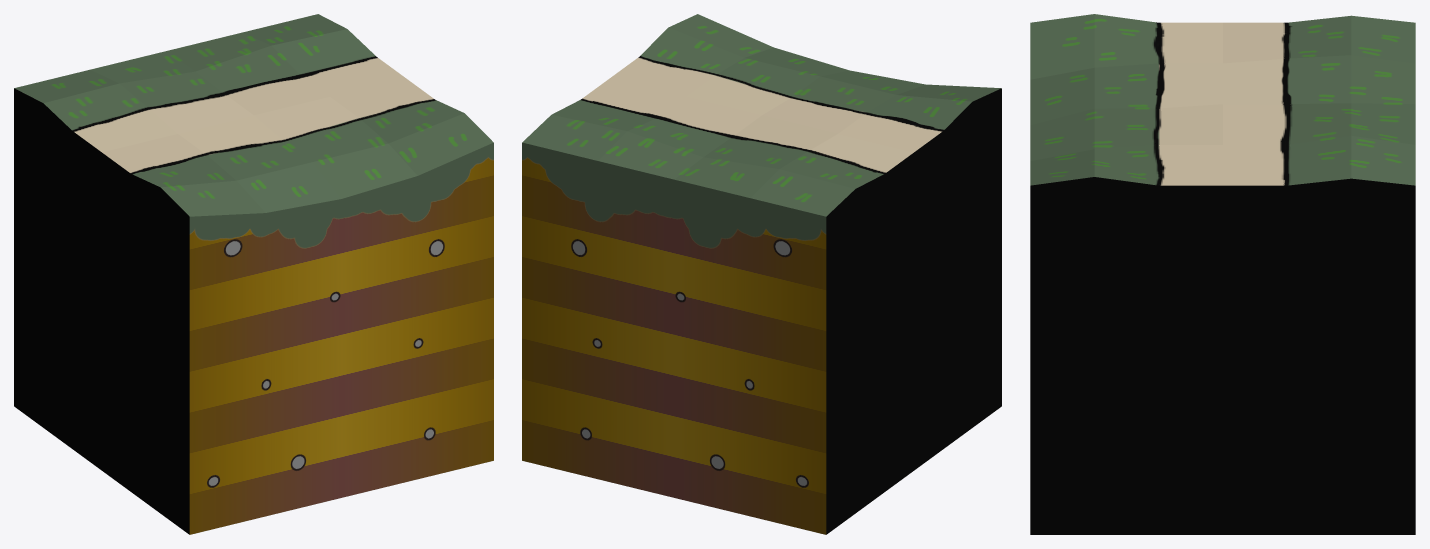
The model's file is glass_road.fbx.
The picture shows the model from 3 angles, left to right: view 1: azimuth 30°, elevation 25°; view 2: azimuth 150°, elevation 25°; view 3: azimuth 270°, elevation 25°; orthographic projection. The views are drawn at different scales.
Parts seen in each view (by area): view 1: glass_road; view 2: glass_road; view 3: glass_road.
Boxes of the visible parts, x1,y1,x2,y2 form: glass_road: [14, 14, 493, 534]; glass_road: [522, 14, 1001, 534]; glass_road: [1030, 14, 1415, 534].
Size of the model in its own units: 20 by 20.52 by 20.
